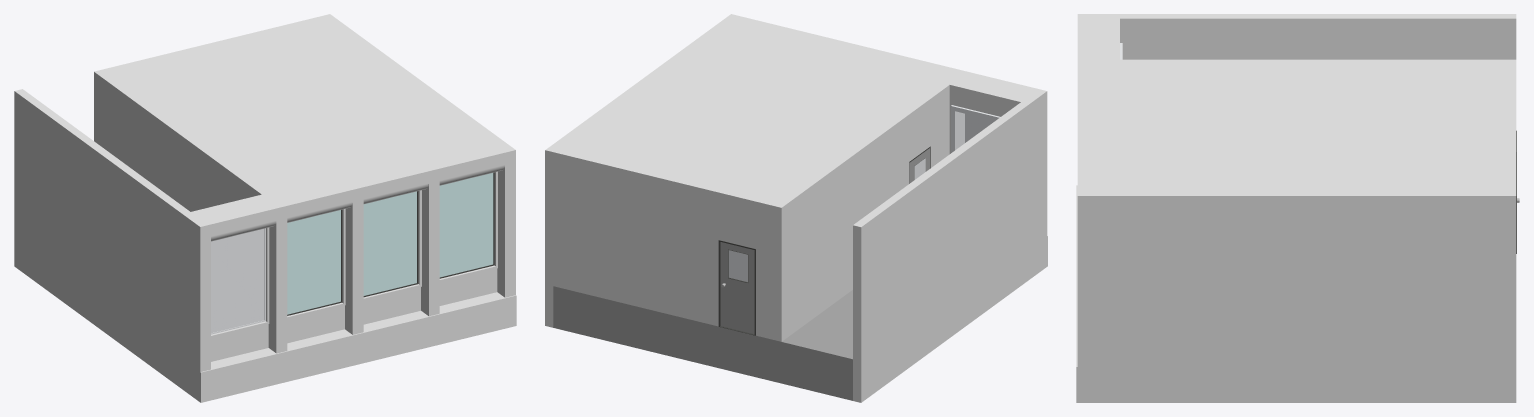
The model's file is building_office_room_curtain.glb.
The picture shows the model from 3 angles, left to right: view 1: azimuth 30°, elevation 25°; view 2: azimuth 150°, elevation 25°; view 3: azimuth 270°, elevation 25°; orthographic projection. The views are drawn at different scales.
Visible parts, largest first — view 1: Object_6; view 2: Object_6; view 3: Object_6.
Boxes of the visible parts, x1,y1,x2,y2 form: Object_6: (14,14,516,402); Object_6: (545,14,1047,402); Object_6: (1076,14,1519,402).
Size of the model in its own units: 7.65 by 4.06 by 7.88.
Materials: 1 (1 with a texture image).
